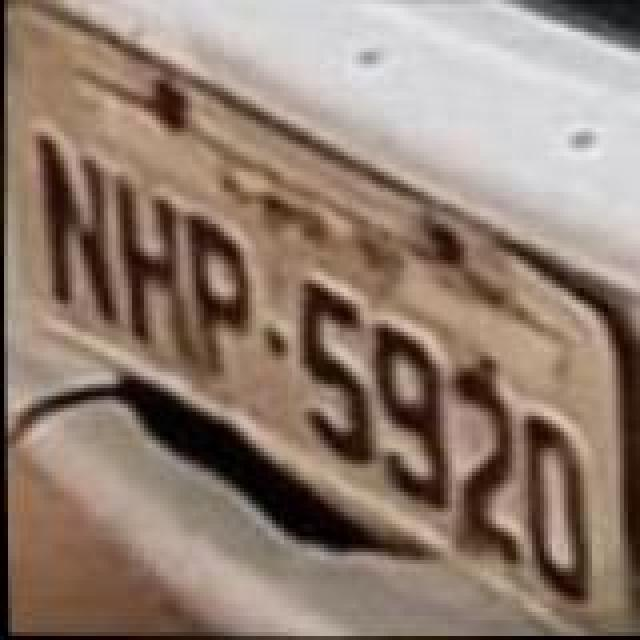2: (442, 366, 526, 570)
5: (294, 278, 386, 470)
9: (366, 320, 454, 512)
H: (112, 174, 200, 366)
N: (30, 128, 122, 328)
O: (512, 408, 596, 608)
P: (182, 208, 258, 376)
